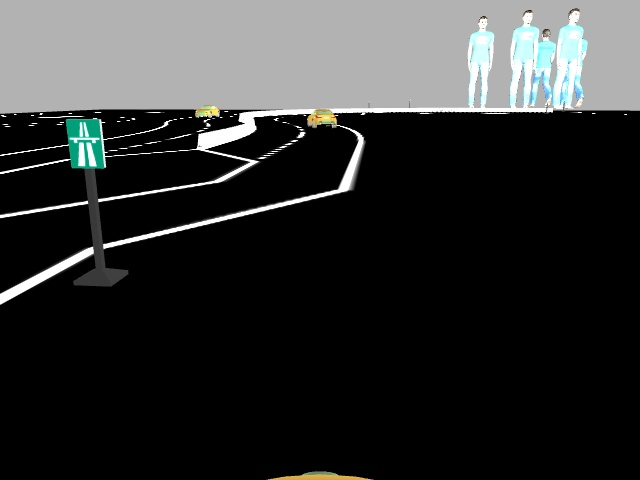HighwayEntrance: (62, 116, 108, 169)
